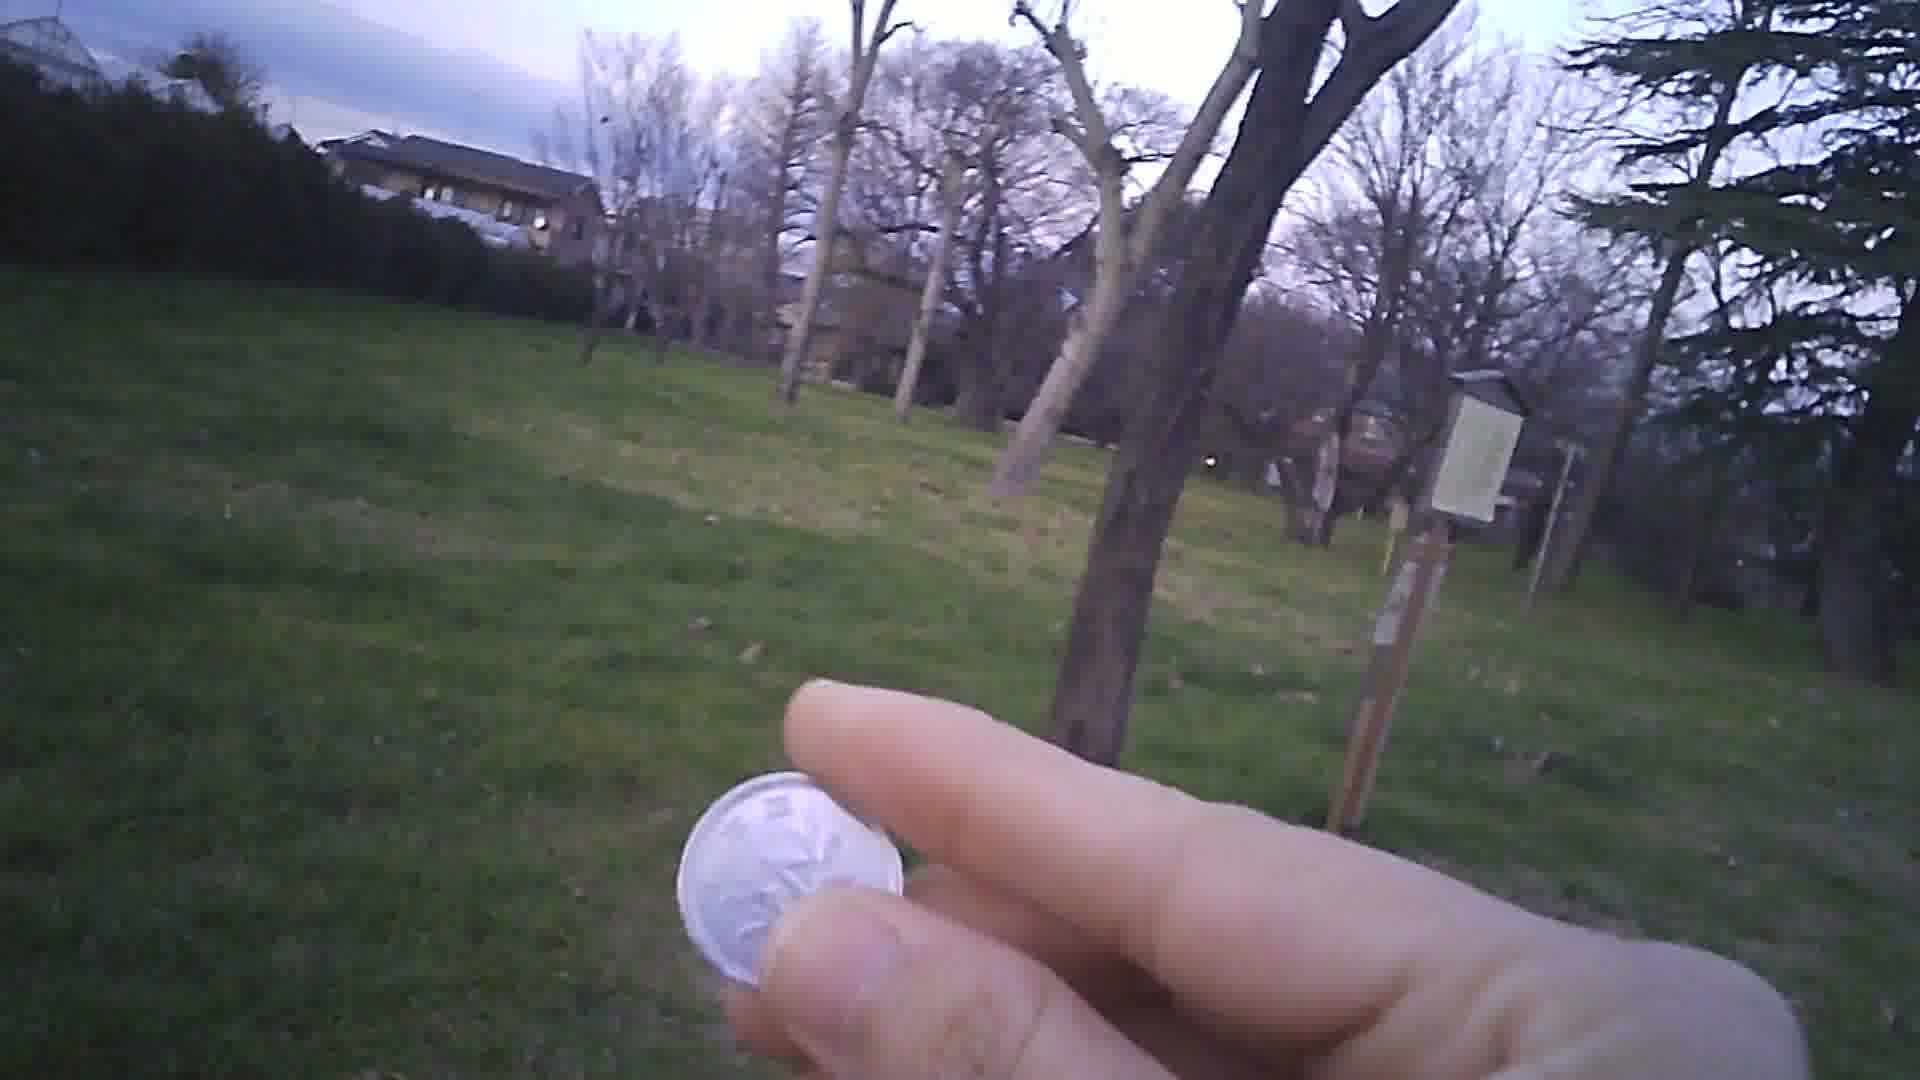1 Yen: (655, 762, 902, 978)
